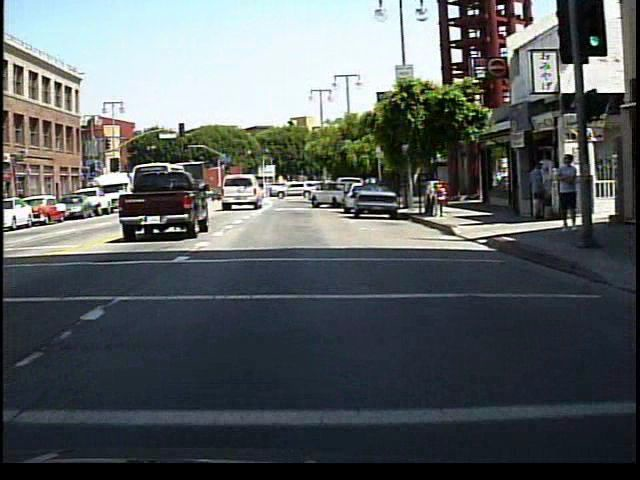person: (550, 153, 580, 234), (527, 158, 543, 223)
